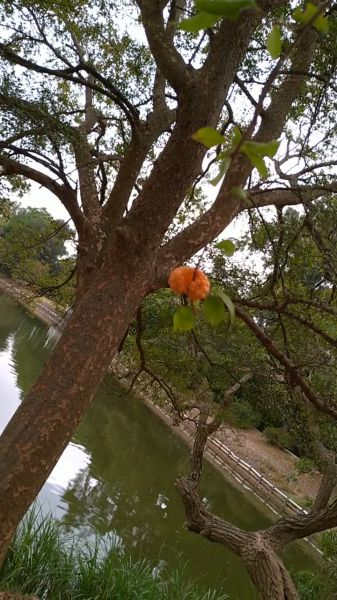eggs: (163, 264, 214, 304)
